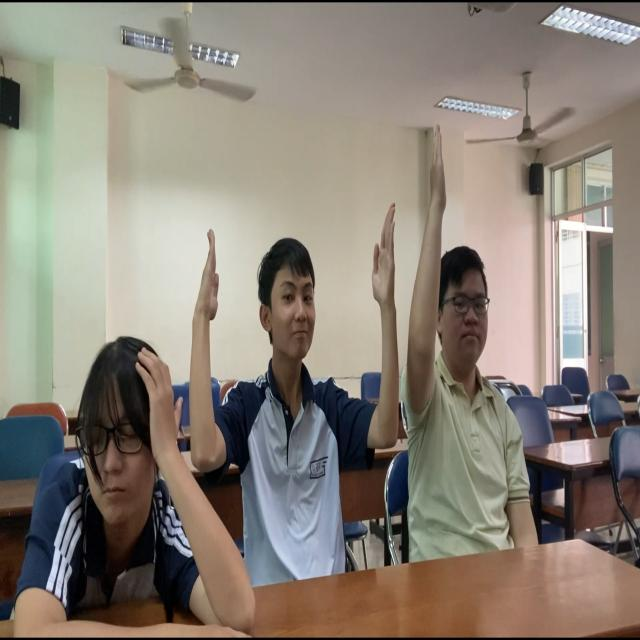raise_hand: (398, 128, 550, 593)
